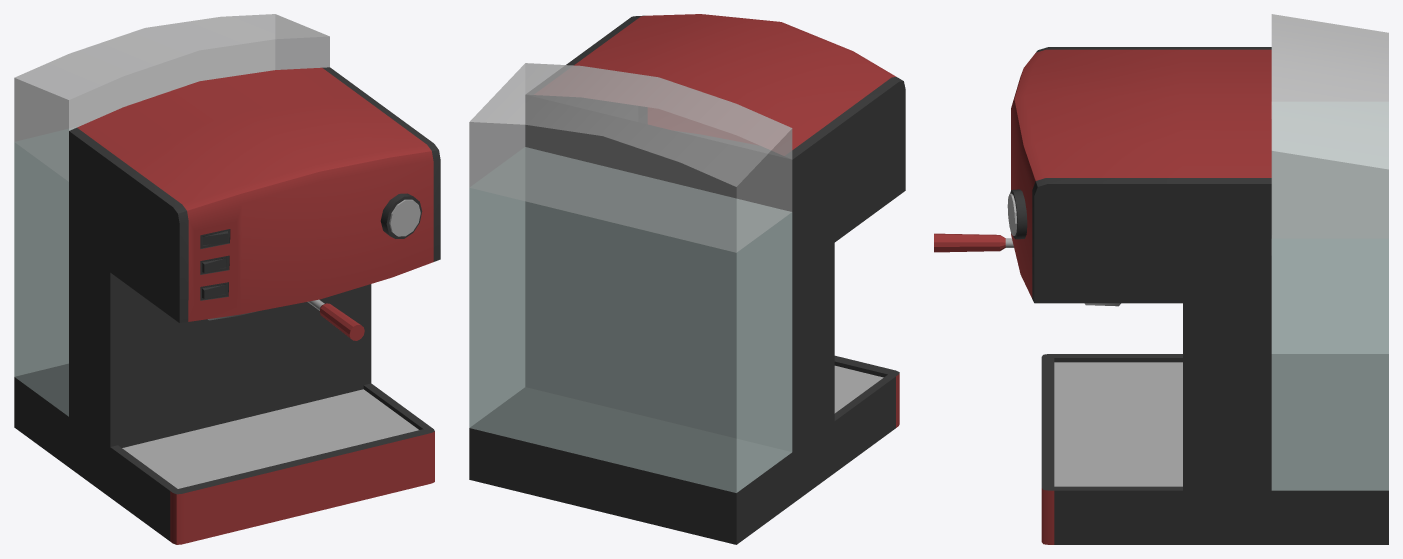
The picture shows the model from 3 angles, left to right: view 1: azimuth 30°, elevation 25°; view 2: azimuth 150°, elevation 25°; view 3: azimuth 270°, elevation 25°; orthographic projection. The views are drawn at different scales.
Visible parts, largest first — view 1: Object004_metal-red_0, Cylinder005_black-metal_0, Object006_plastic_0, Object005_metal_0, Object003_water_0; view 2: Cylinder005_black-metal_0, Object003_water_0, Object006_plastic_0, Object004_metal-red_0, Object005_metal_0; view 3: Cylinder005_black-metal_0, Object003_water_0, Object004_metal-red_0, Object006_plastic_0, Object005_metal_0.
Boxes of the visible parts, x1,y1,x2,y2 form: Object004_metal-red_0: (77,67,434,544); Cylinder005_black-metal_0: (14,67,440,541); Object006_plastic_0: (14,14,329,181); Object005_metal_0: (122,199,420,488); Object003_water_0: (14,126,79,416); Cylinder005_black-metal_0: (469,15,905,544); Object003_water_0: (469,147,792,492); Object006_plastic_0: (469,63,792,252); Object004_metal-red_0: (535,14,899,427); Object005_metal_0: (834,365,883,413); Cylinder005_black-metal_0: (1010,47,1388,544); Object003_water_0: (1271,102,1388,490); Object004_metal-red_0: (934,49,1271,544); Object006_plastic_0: (1271,14,1388,238); Object005_metal_0: (1005,193,1182,486).
Size of the model in its own units: 0.2335 by 0.3293 by 0.3284.
